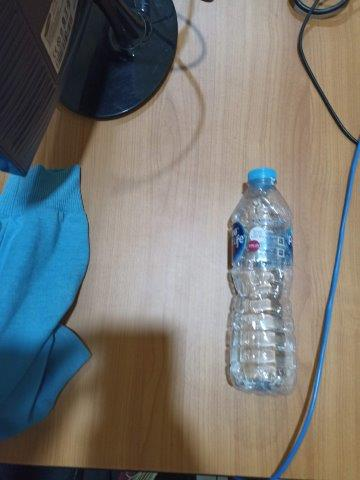botolplastik: (232, 165, 297, 393)
